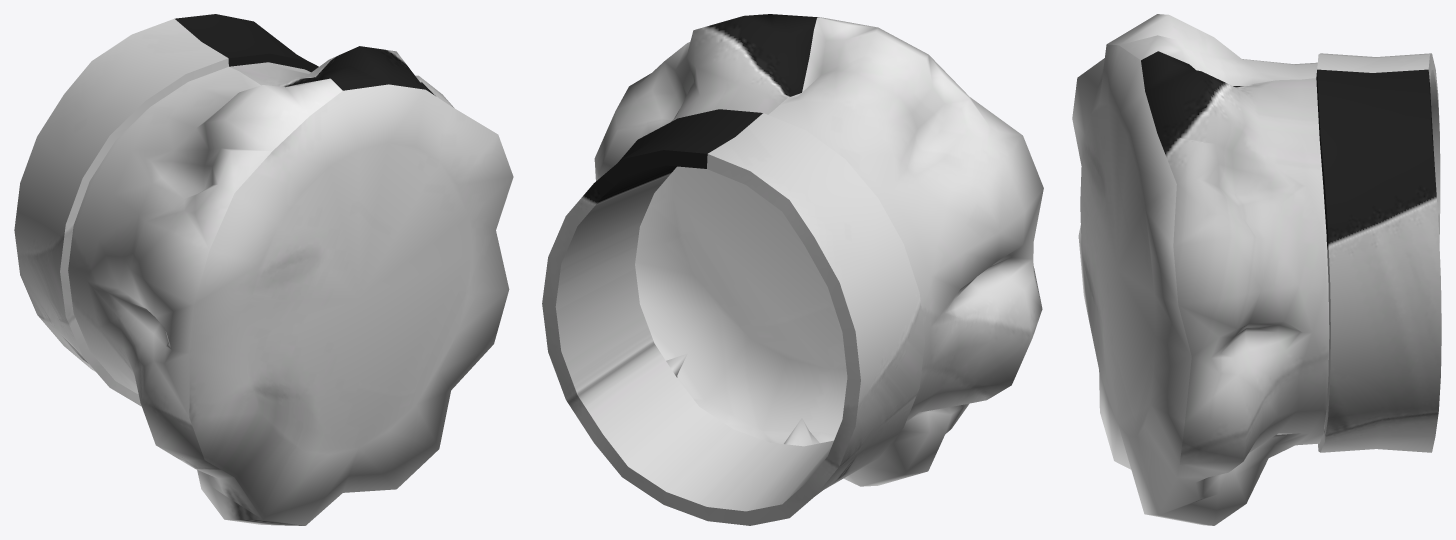
Rendered from Headwear17.glb.
3 views of the same model, side by side, from view 1: azimuth 30°, elevation 25°; view 2: azimuth 150°, elevation 25°; view 3: azimuth 270°, elevation 25° (orthographic). The views are drawn at different scales.
Parts seen in each view (by area): view 1: Headwear17; view 2: Headwear17; view 3: Headwear17.
Boxes of the visible parts, left/top/right/bottom form: Headwear17: left=14, top=14, right=513, bottom=525; Headwear17: left=542, top=14, right=1043, bottom=525; Headwear17: left=1072, top=14, right=1441, bottom=525.
Bounding box in the file's own units: 2.35 × 2.52 × 1.86.
1 material, 1 textured.
